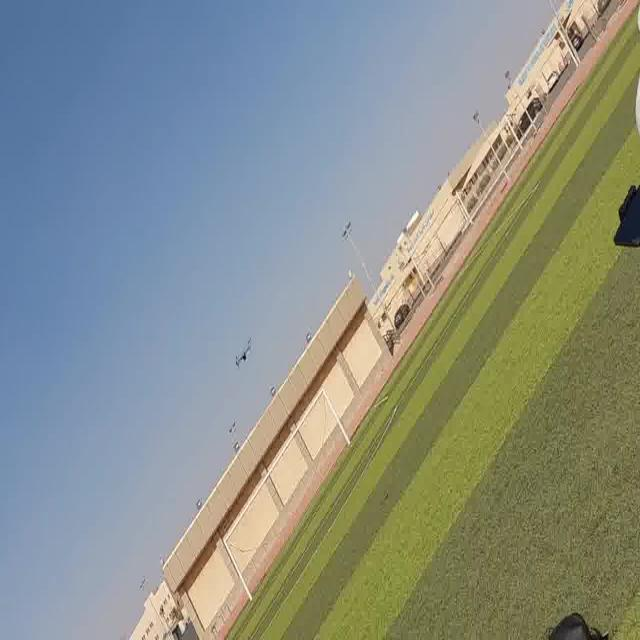drone: (214, 329, 266, 403)
